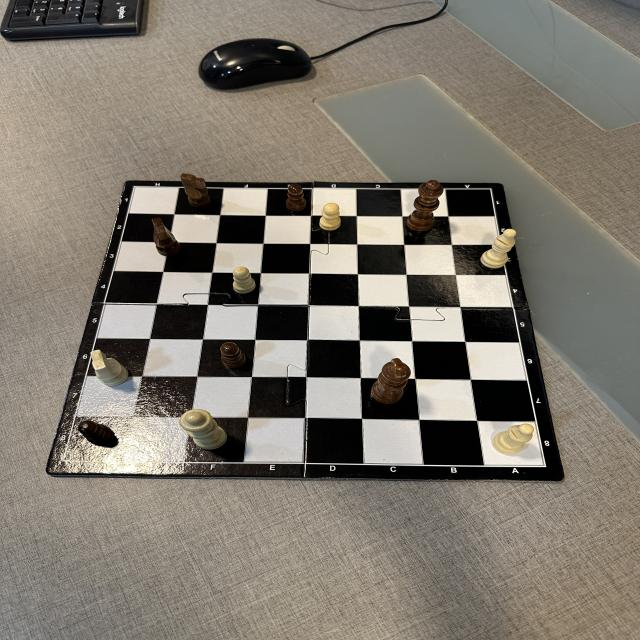Black-King: (371, 358, 411, 404)
Black-Knight: (180, 174, 211, 208)
Black-Pawn: (77, 419, 112, 444), (220, 342, 247, 368), (286, 184, 307, 212)
Black-Queen: (406, 180, 444, 232)
White-Bishop: (480, 228, 517, 269), (492, 424, 534, 456)
White-Knight: (90, 349, 129, 386)
White-Pawn: (232, 267, 256, 294), (319, 203, 341, 231)
White-Queen: (179, 409, 228, 450)
